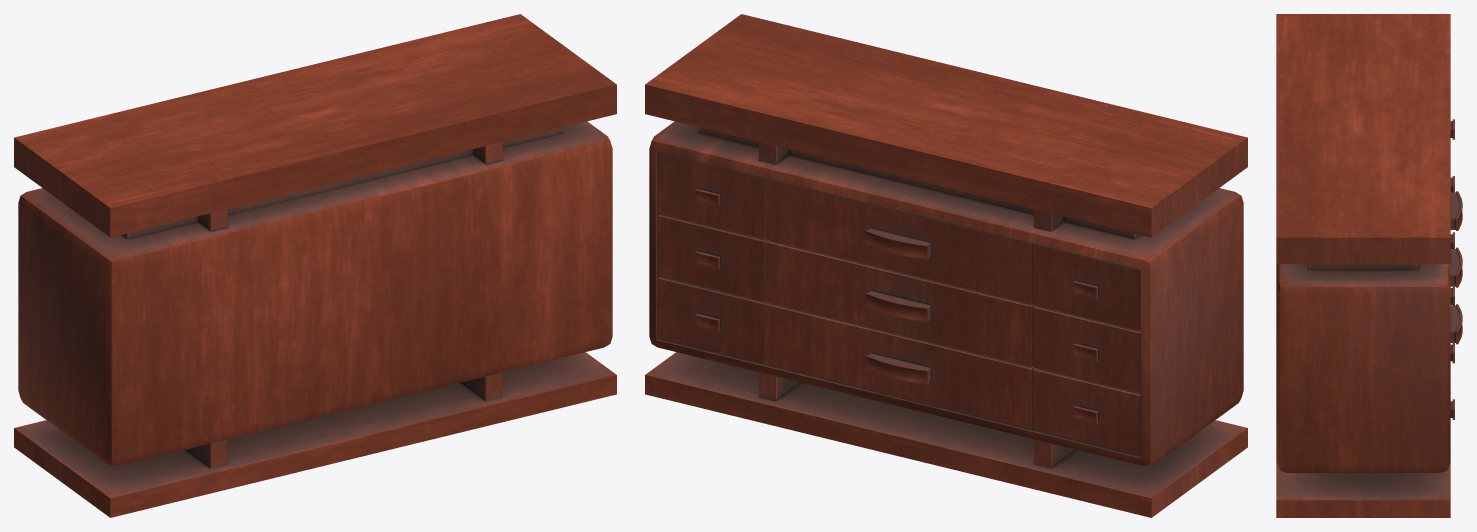
File: SM_Dress_Drawer.fbx
3 renders of one model, left to right at view 1: azimuth 30°, elevation 25°; view 2: azimuth 150°, elevation 25°; view 3: azimuth 270°, elevation 25°, orthographic. The views are drawn at different scales.
Visible parts, largest first — view 1: SM_Dress_Drawer; view 2: SM_Dress_Drawer; view 3: SM_Dress_Drawer.
Part boxes in pixels (bbox=[...]): SM_Dress_Drawer: bbox=[14, 14, 616, 517]; SM_Dress_Drawer: bbox=[645, 14, 1247, 517]; SM_Dress_Drawer: bbox=[1276, 14, 1462, 517].
Size of the model in its own units: 150 by 52.8 by 87.72.
Materials: 1 (1 with a texture image).
